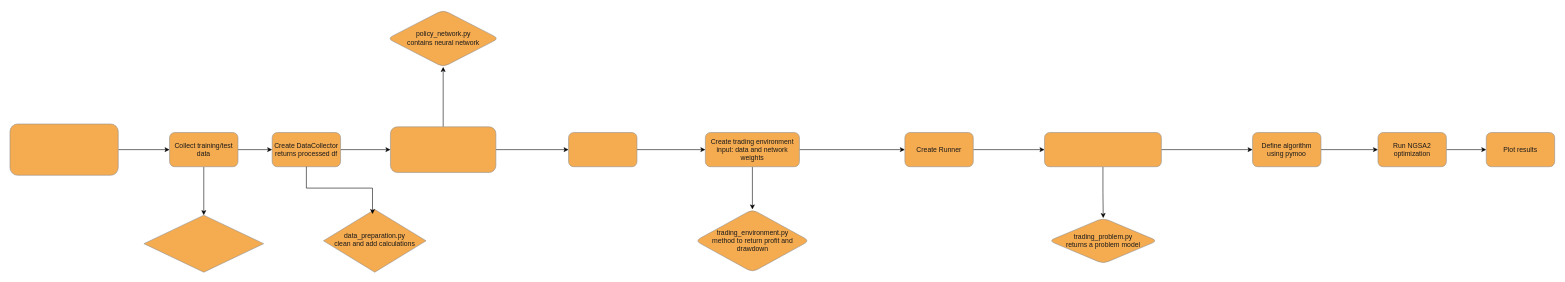
This 1565x282 diagram has some shape labels left out. The centre of each missing label's shape, as x and y in pixels:
"alpha_vantage_final.py collects stock data" belongs at point (203, 243).
"Create a training network returns neural network weights" belongs at point (443, 149).
"Define problem input: data, network wieghts, trading_env, runner returns problem" belongs at point (1102, 149).
"Determine if GPUs are available" belongs at point (602, 149).
"main.py overall controller" belongs at point (63, 149).
